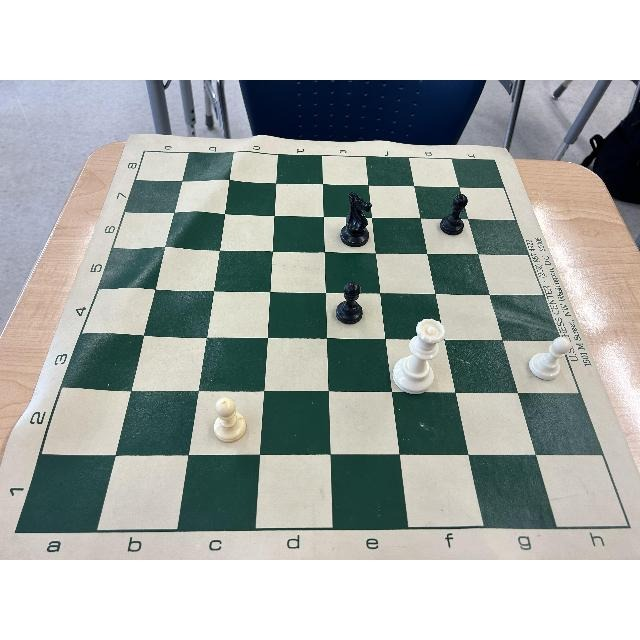black-knight: (340, 192, 372, 248)
black-pawn: (335, 280, 365, 324), (440, 192, 468, 236)
white-pawn: (527, 334, 570, 381), (214, 396, 248, 441)
white-queen: (392, 320, 445, 396)
